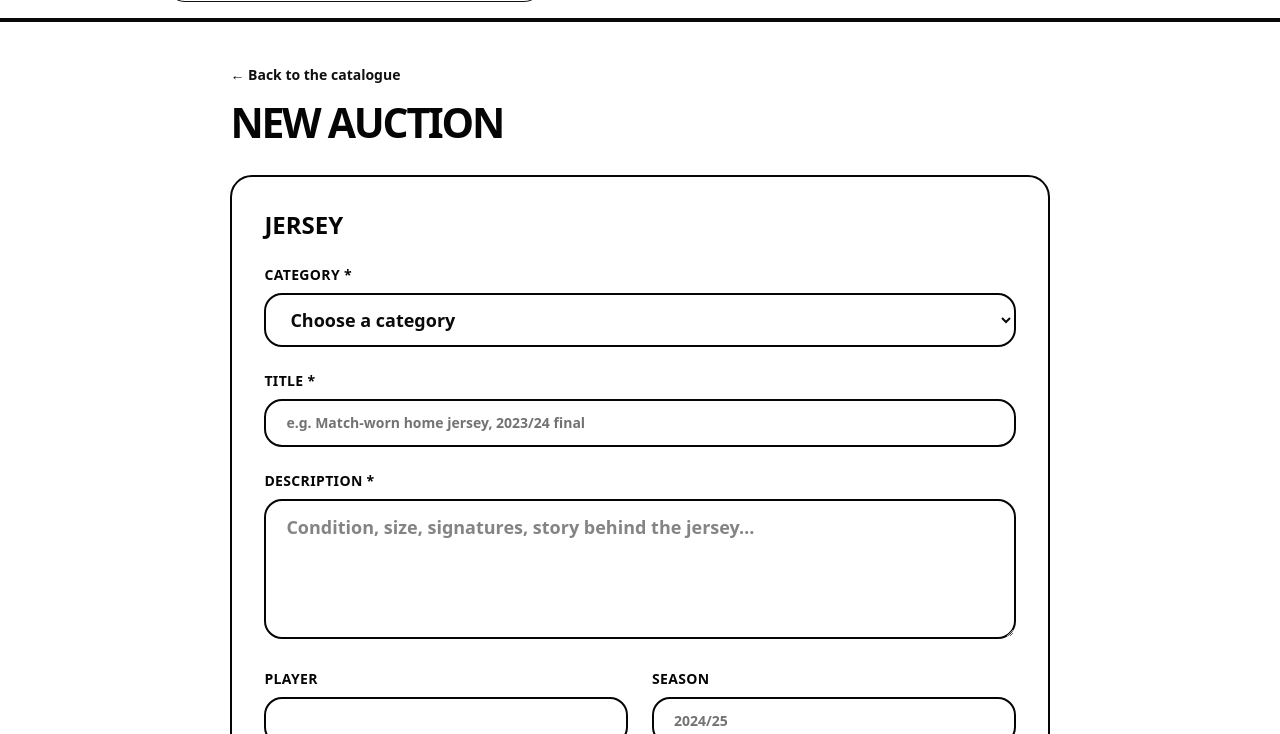
Test: NewListingView: errors from the server › lists what is missing before it can be sent for verification
Step 1. Select "Player jerseys" in the dropdown labelled "Category *" → (640, 320), box [264,293,1016,347]
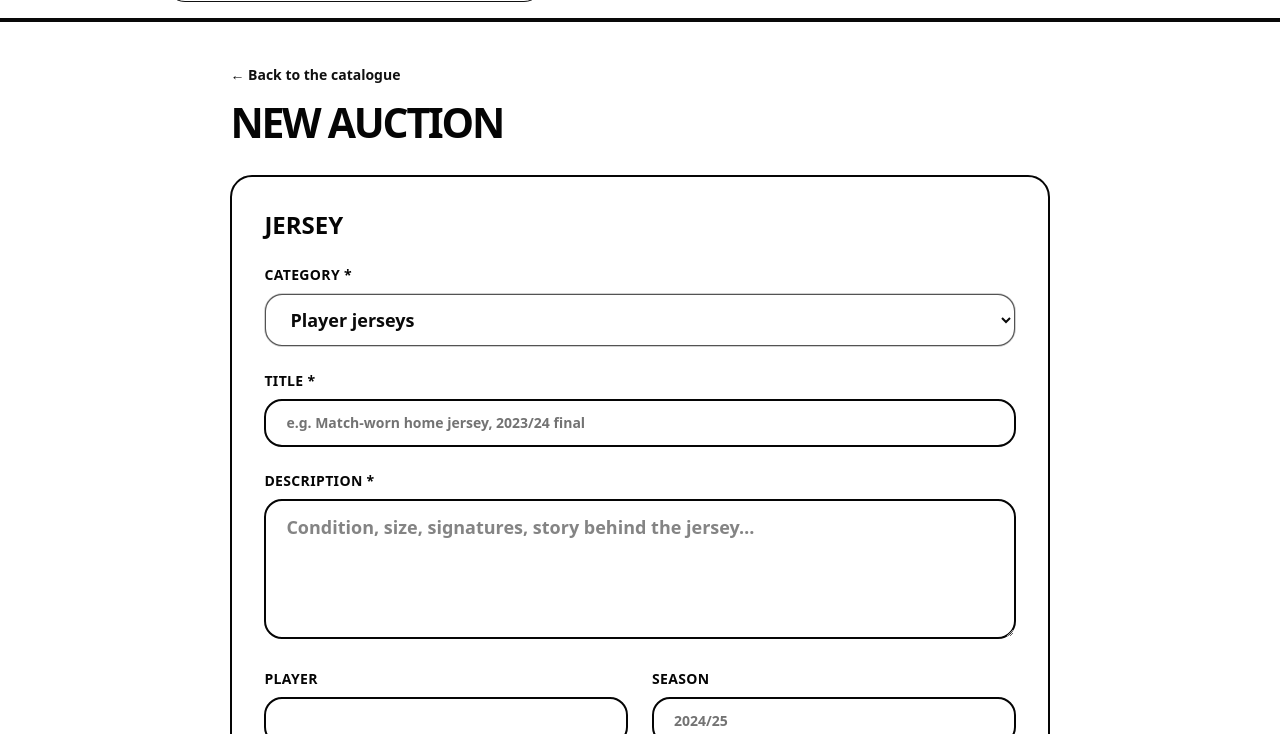
Step 2. Type "Signed home shirt" into the field labelled "Title *" → (640, 423), box [264,399,1016,447]
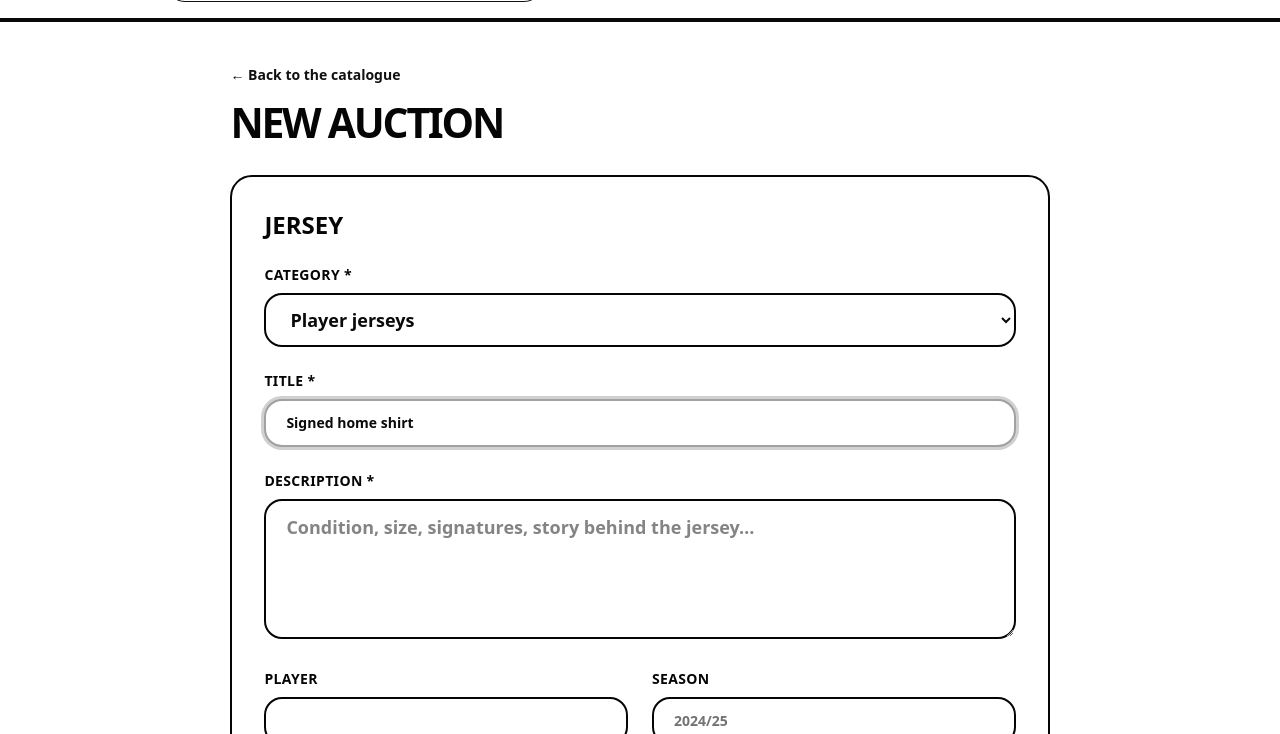
Step 3. Type "Signed by the whole squad after the final." into the text box labelled "Description *" → (640, 569), box [264,499,1016,639]
(page scrolled)
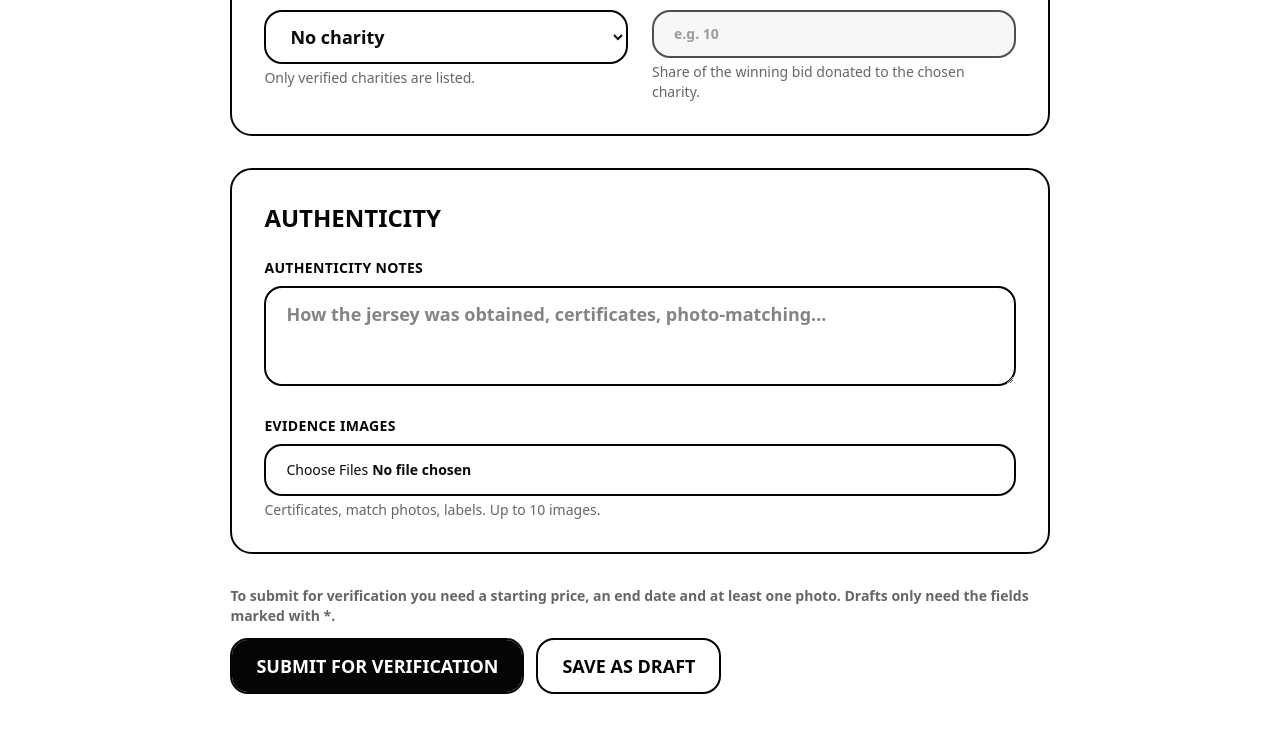
Step 4. Click the button "SUBMIT FOR VERIFICATION" → (377, 666), box [230,638,524,694]
(page scrolled)
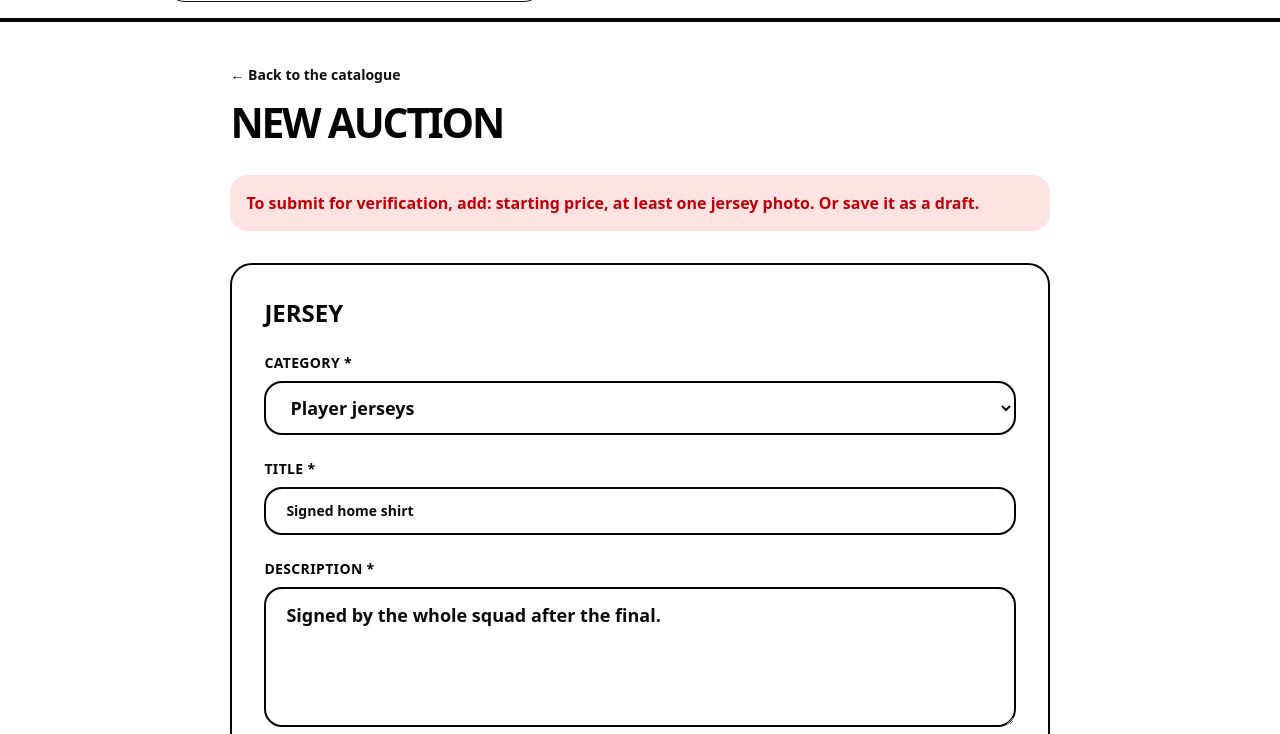
Now the message shows "To submit for verification, add: starting price, at least one jersey photo. Or save it as a draft.", box [246,192,979,214]
